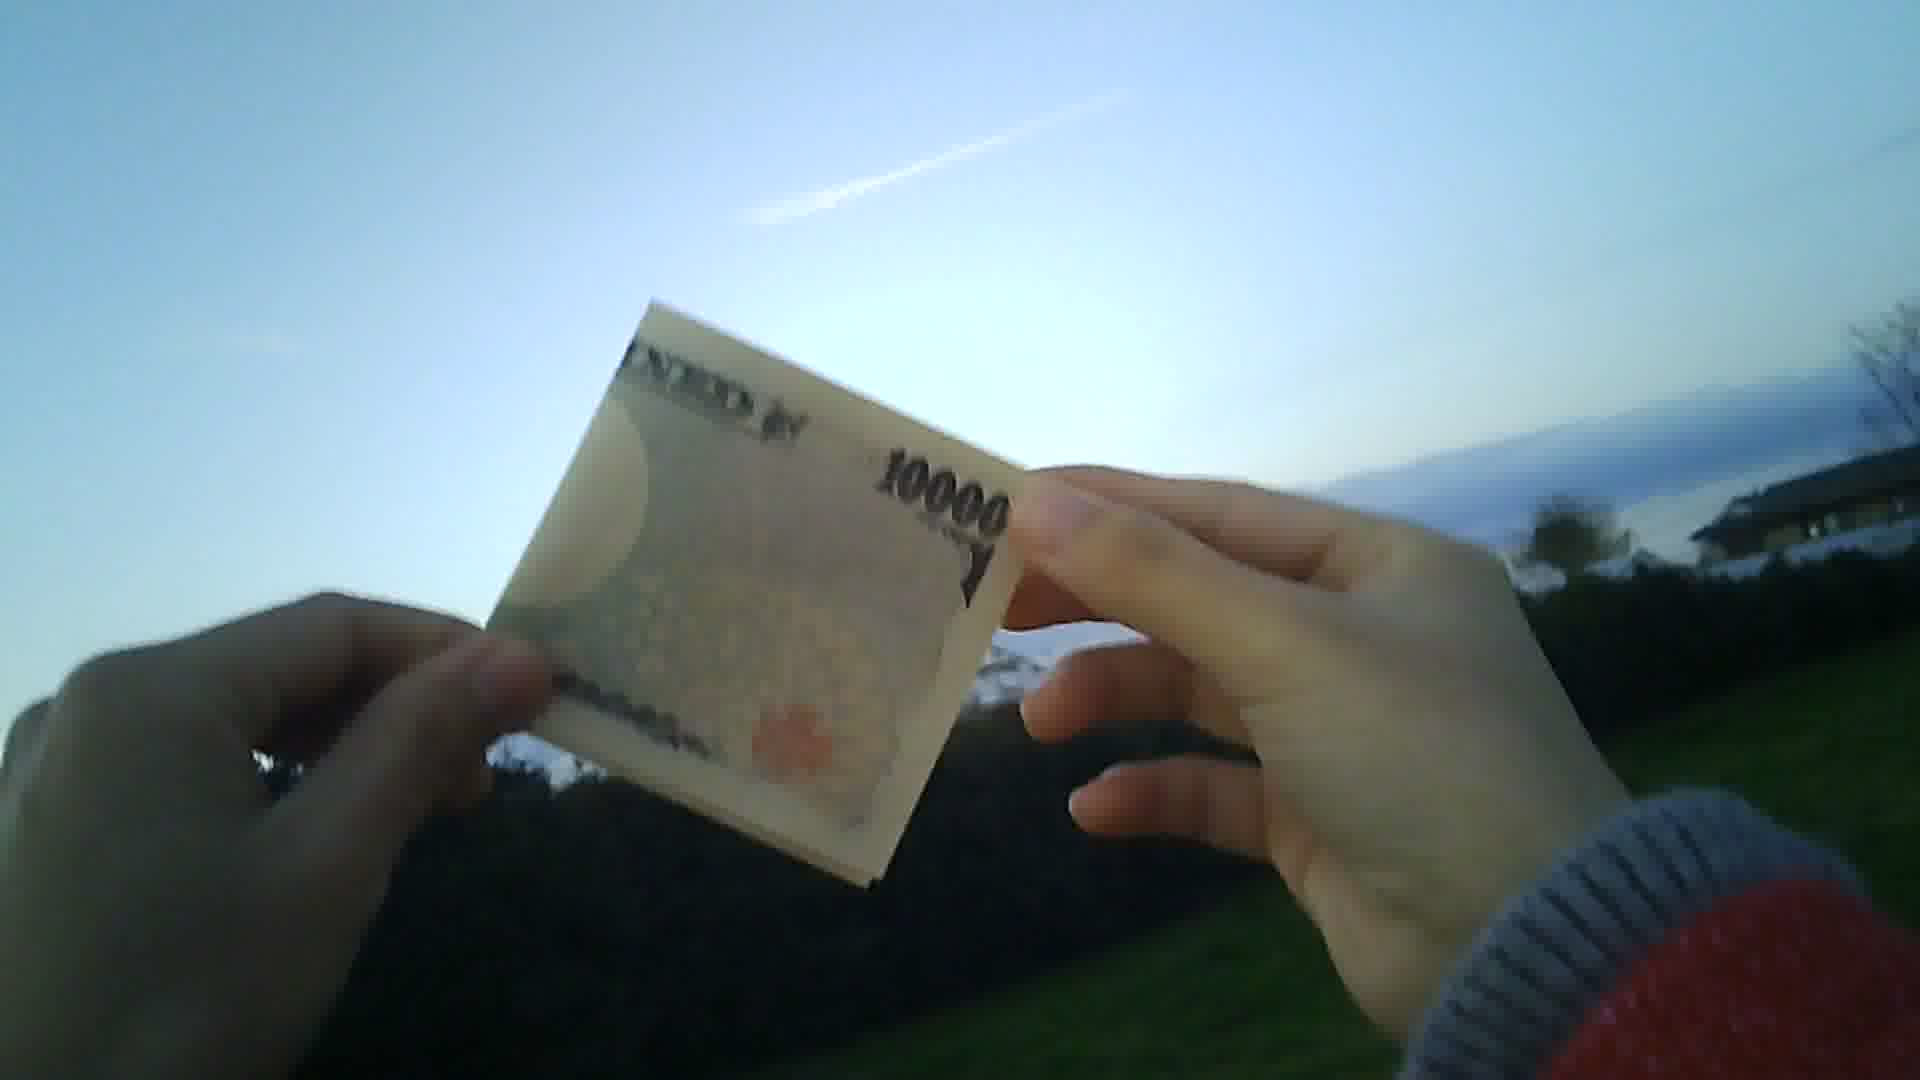10,000 Yen: (463, 285, 1060, 872)
